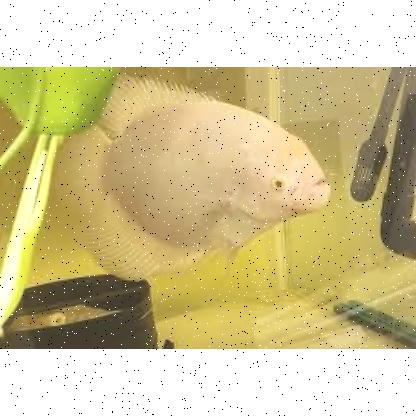gurame: (58, 74, 332, 272)
